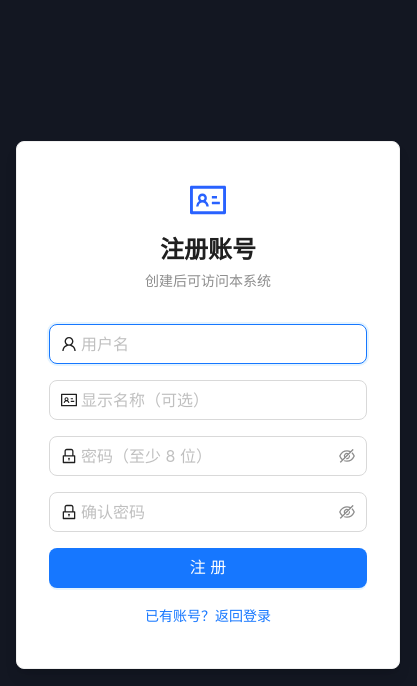
Register 页 › 密码过短 / 两次不一致：前端拦截并提示
Expected: the button with test id "register-submit" is shown, [49,548,367,588]
Type "newbie" into the field with test id "register-username" at (218, 344), box [81,332,355,356]
Type "short" into the password field with test id "register-password" at (208, 456), box [81,444,335,468]
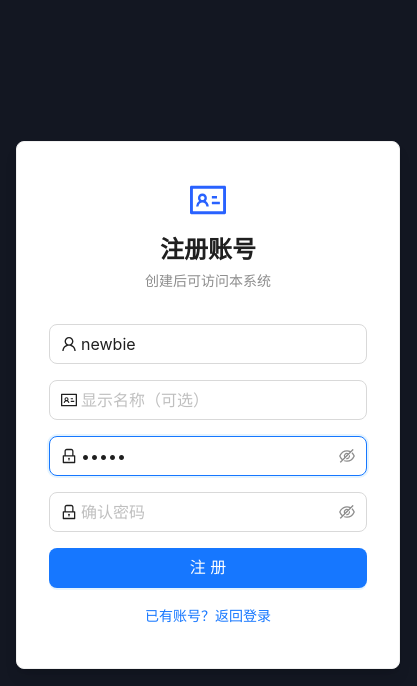
Type "short" into the password field with test id "register-confirm" at (208, 512), box [81,500,335,524]
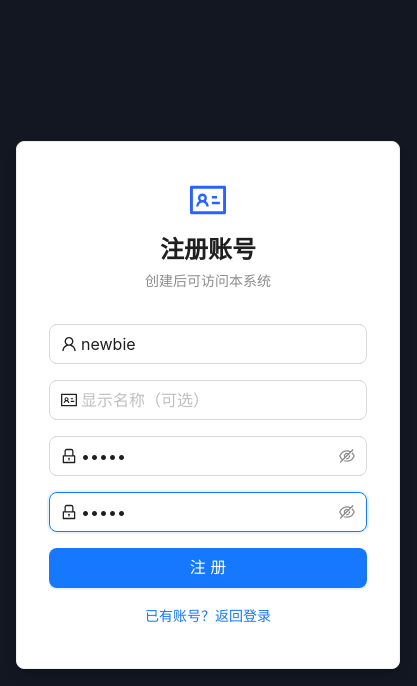
Click the button with test id "register-submit" at (208, 568), box [49,548,367,588]
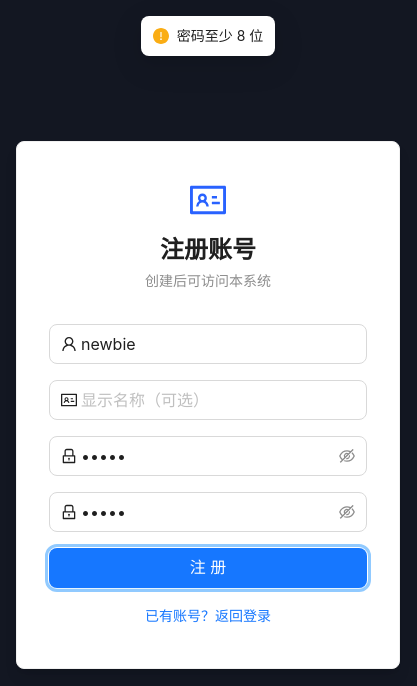
Result: the text "密码至少 8 位" is shown at [177,25,263,47]
Type "password123" into the password field with test id "register-password" at (208, 456), box [81,444,335,468]
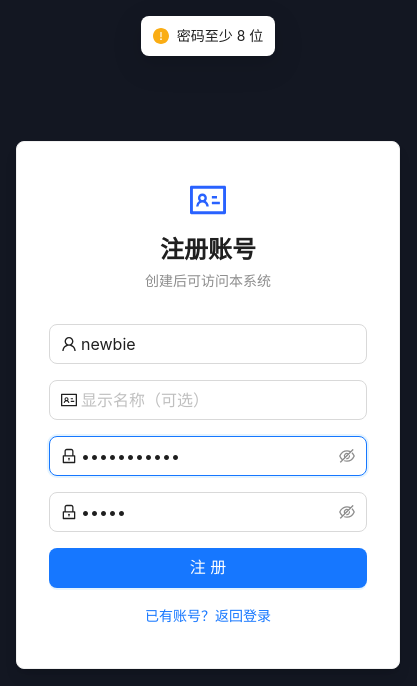
Type "password124" into the password field with test id "register-confirm" at (208, 512), box [81,500,335,524]
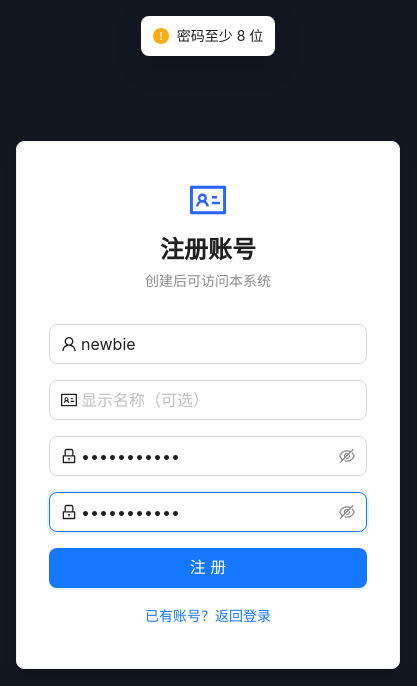
Click the button with test id "register-submit" at (208, 568), box [49,548,367,588]
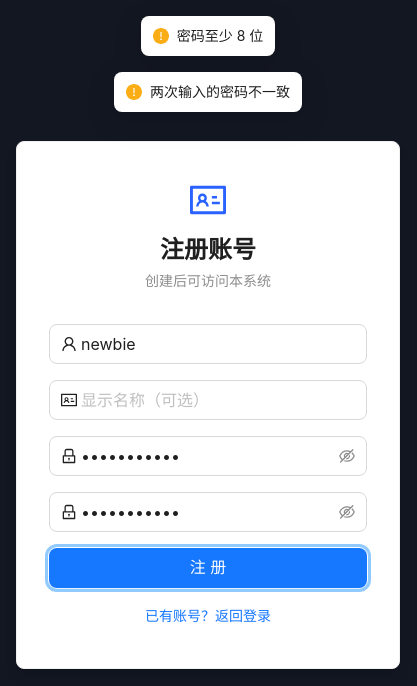
Result: the text "两次输入的密码不一致" is shown at [150,81,290,103]
